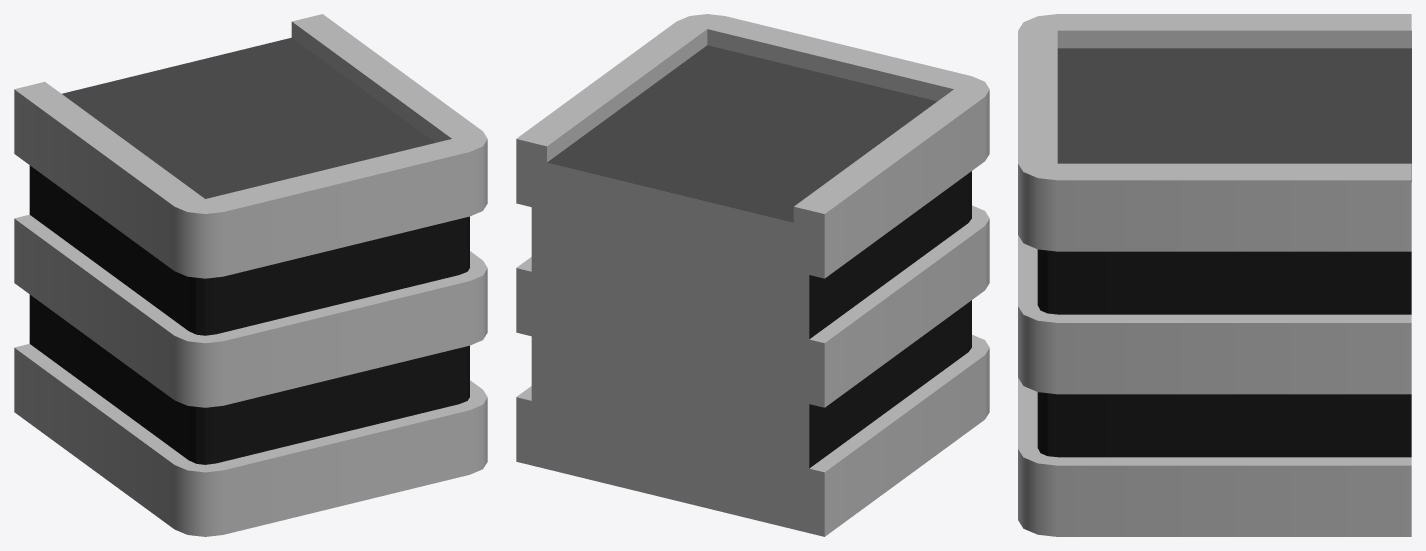
The model's file is Building-EndPoint.fbx.
The picture shows the model from 3 angles, left to right: view 1: azimuth 30°, elevation 25°; view 2: azimuth 150°, elevation 25°; view 3: azimuth 270°, elevation 25°; orthographic projection. The views are drawn at different scales.
Visible parts, largest first — view 1: Building-EndPoint; view 2: Building-EndPoint; view 3: Building-EndPoint.
Part boxes in pixels (x1=…): Building-EndPoint: x1=14, y1=14, x2=487, y2=536; Building-EndPoint: x1=516, y1=14, x2=989, y2=536; Building-EndPoint: x1=1018, y1=14, x2=1411, y2=536.
Bounding box in the file's own units: 100 × 100 × 100.
